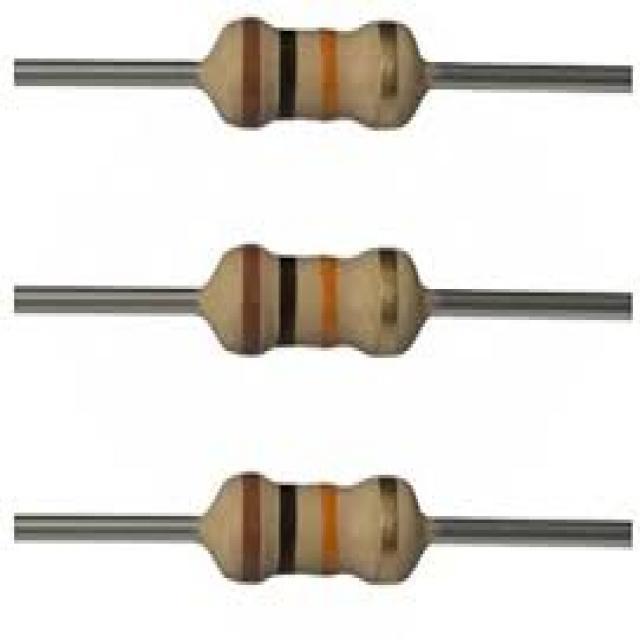Resistor Carbon-Film: (209, 473, 425, 583), (211, 18, 425, 128), (210, 246, 423, 354)
